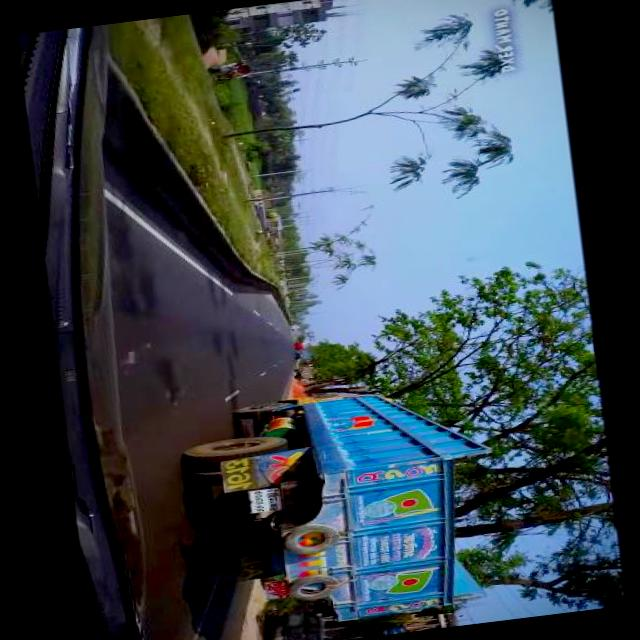bus: (296, 342, 311, 351)
truck: (177, 374, 513, 640), (294, 366, 318, 380), (297, 351, 310, 360)
